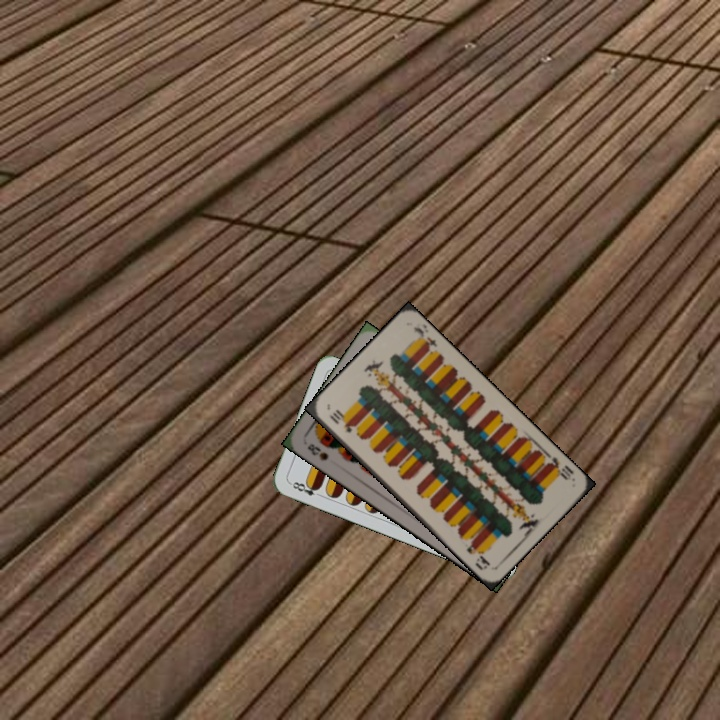E10: (542, 450, 577, 483), (326, 407, 355, 435)
E8: (286, 477, 325, 500)
S8: (303, 439, 331, 463)
